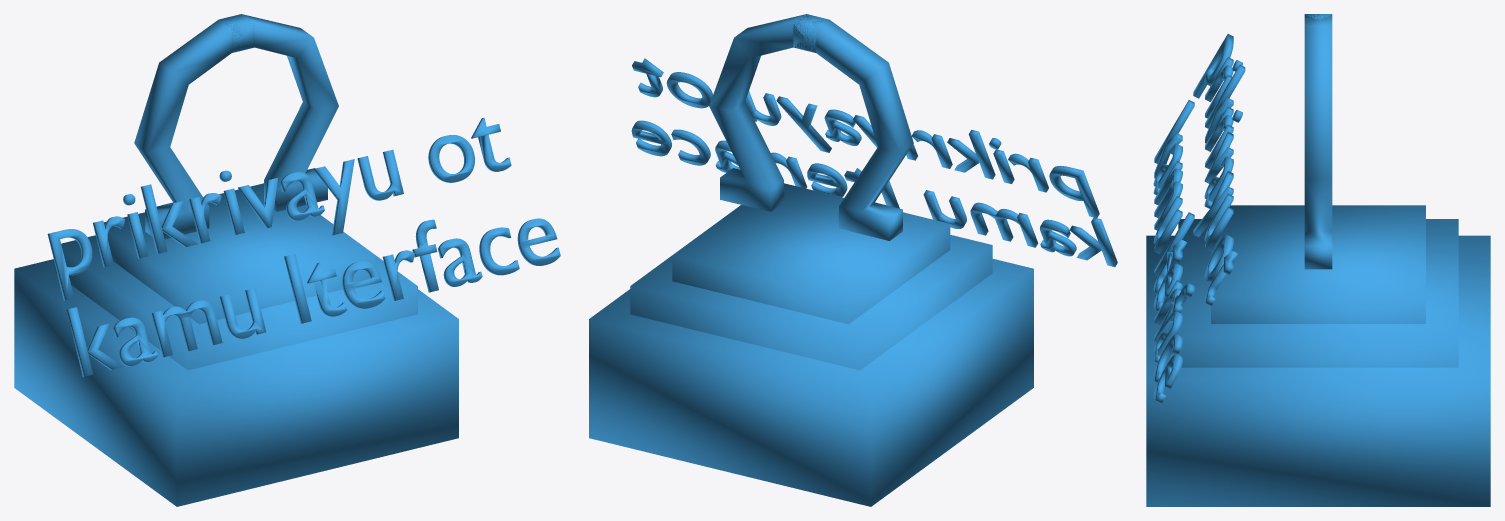
Rendered from Omega.fbx.
3 views of the same model, side by side, from view 1: azimuth 30°, elevation 25°; view 2: azimuth 150°, elevation 25°; view 3: azimuth 270°, elevation 25° (orthographic). The views are drawn at different scales.
Parts seen in each view (by area): view 1: Cube.001; view 2: Cube.001; view 3: Cube.001.
Boxes of the visible parts, x1,y1,x2,y2 form: Cube.001: (14, 14, 560, 506); Cube.001: (589, 14, 1117, 506); Cube.001: (1146, 14, 1490, 506).
Bounding box in the file's own units: 542 × 424 × 320.
